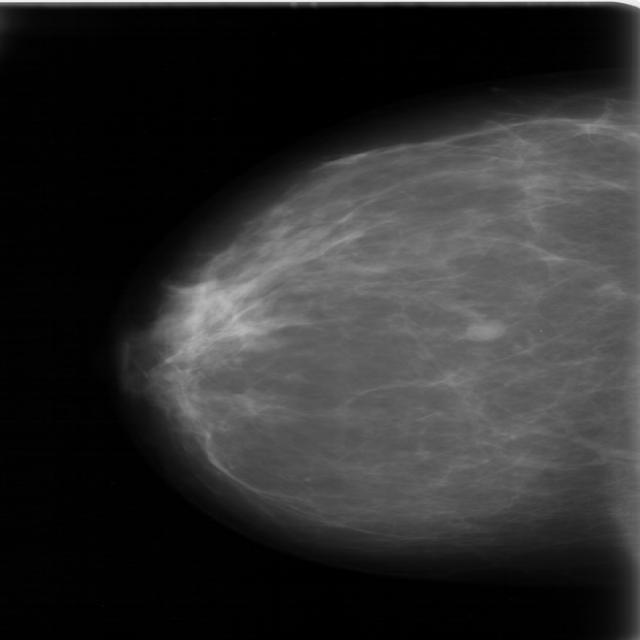tumour: (462, 316, 505, 341)
